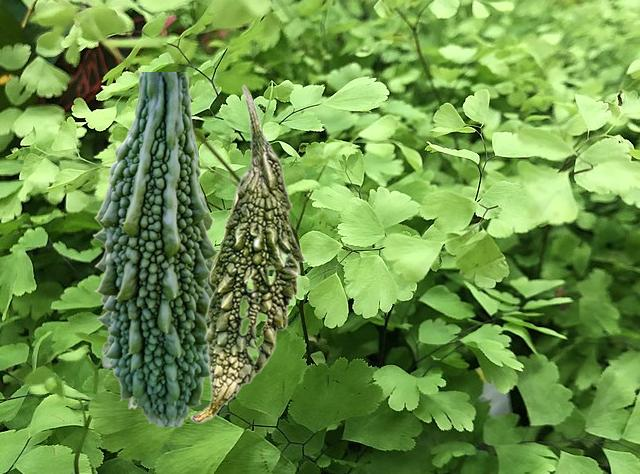ampalaya: (92, 72, 216, 425), (189, 83, 305, 422)
